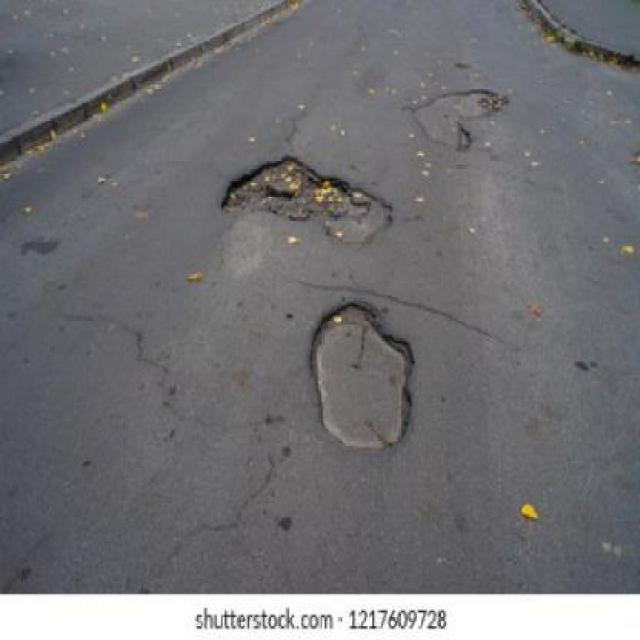Buraco: (304, 298, 421, 456), (217, 154, 399, 255), (406, 87, 507, 155)
